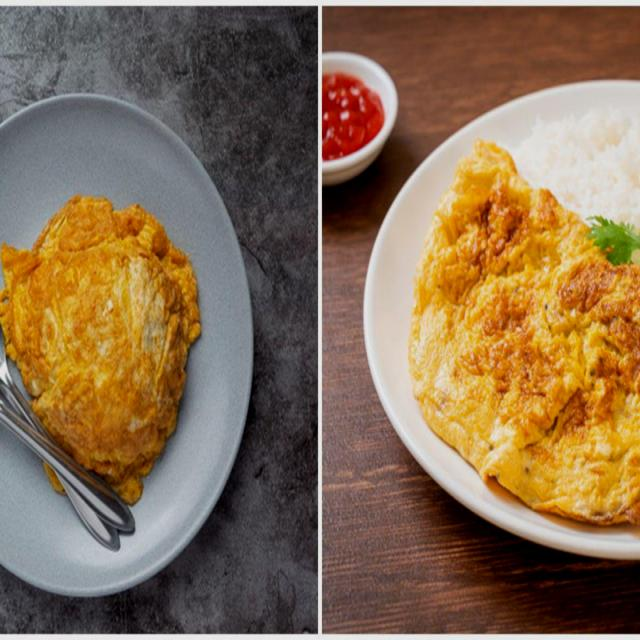omelette: (412, 138, 640, 507), (0, 210, 207, 511)
